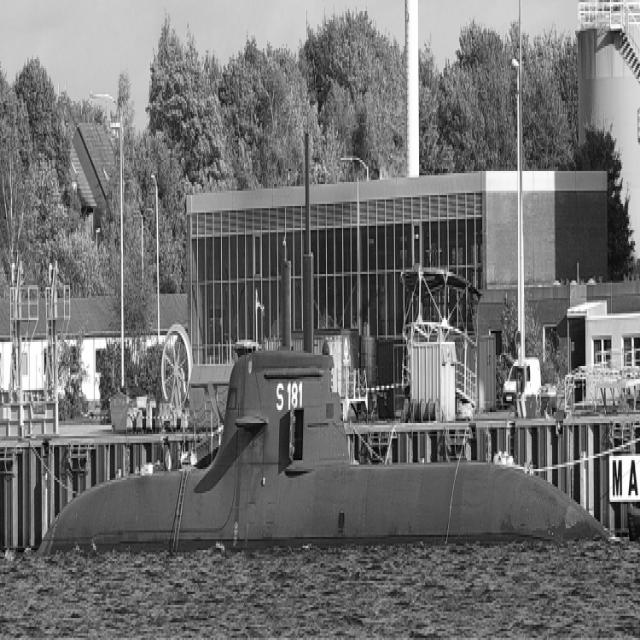submarine: (24, 352, 622, 538)
